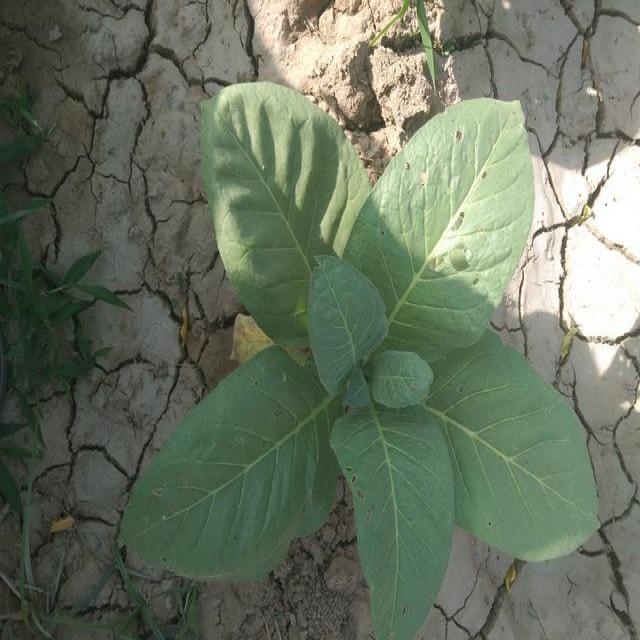crop: (119, 80, 594, 640)
